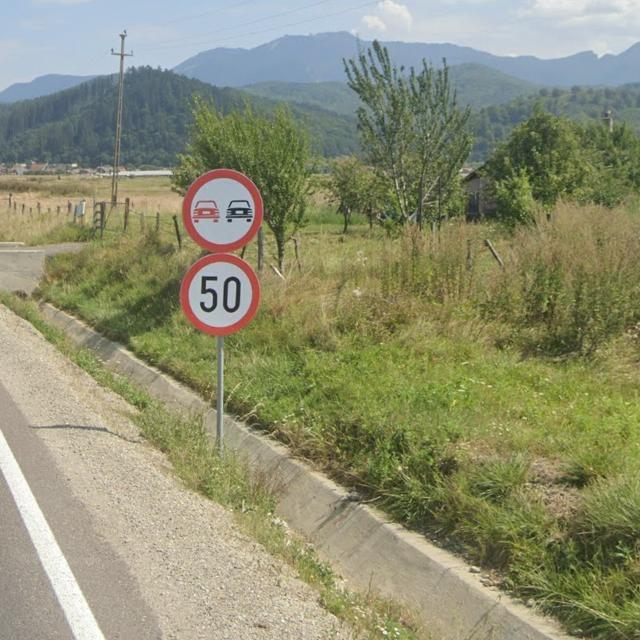forb_overtake: (182, 168, 265, 252)
forb_speed_over_50: (180, 253, 263, 339)
